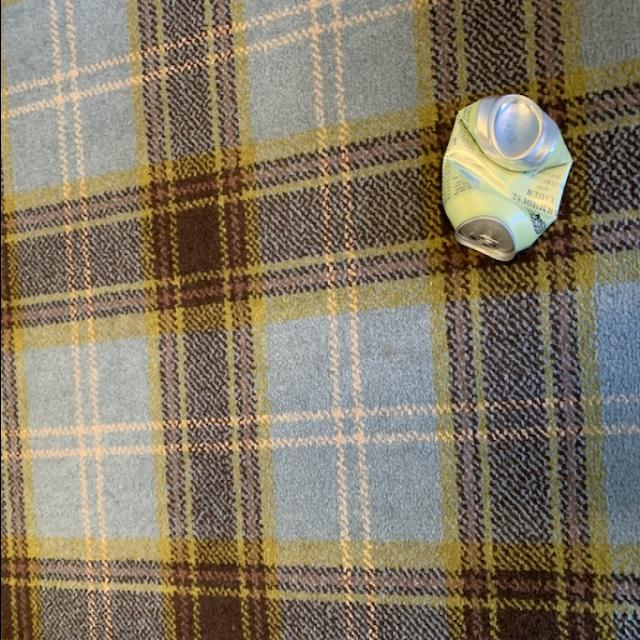Aluminum Can: (435, 92, 573, 260)
